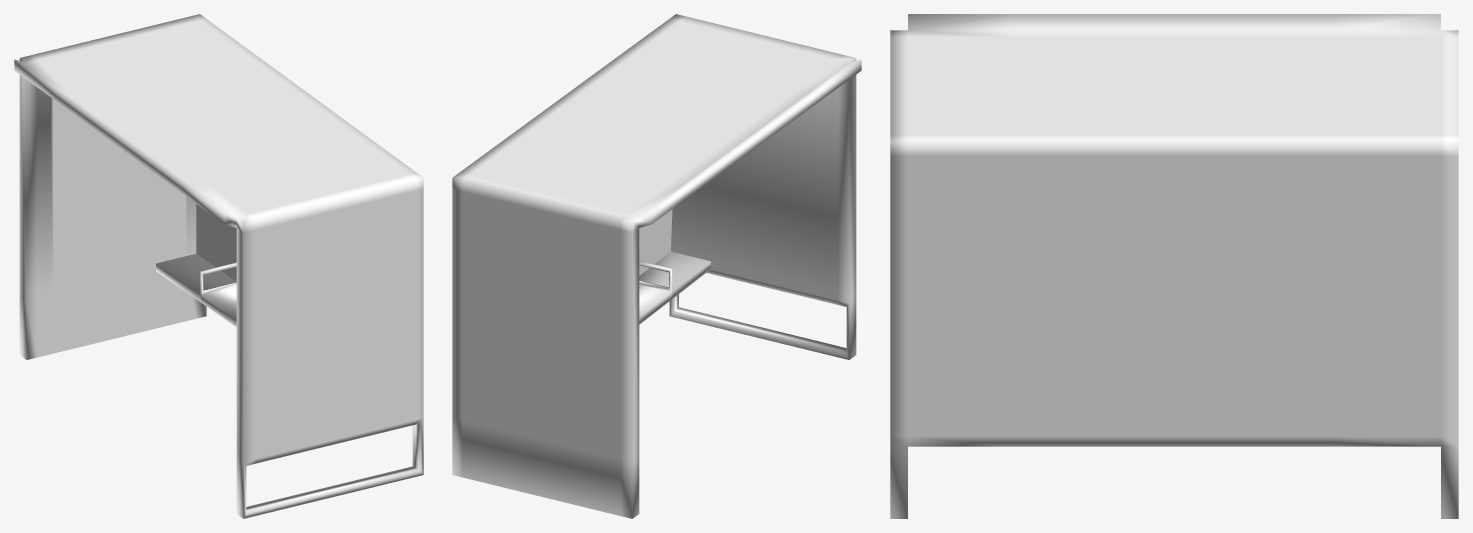
The model's file is busstation.fbx.
3 views of the same model, side by side, from view 1: azimuth 30°, elevation 25°; view 2: azimuth 150°, elevation 25°; view 3: azimuth 270°, elevation 25° (orthographic). The views are drawn at different scales.
Parts seen in each view (by area): view 1: bus_station; view 2: bus_station; view 3: bus_station.
Boxes of the visible parts, left/top/right/bottom form: bus_station: left=14, top=14, right=423, bottom=518; bus_station: left=452, top=14, right=861, bottom=518; bus_station: left=890, top=14, right=1458, bottom=518.
Bounding box in the file's own units: 159 × 240 × 320.
